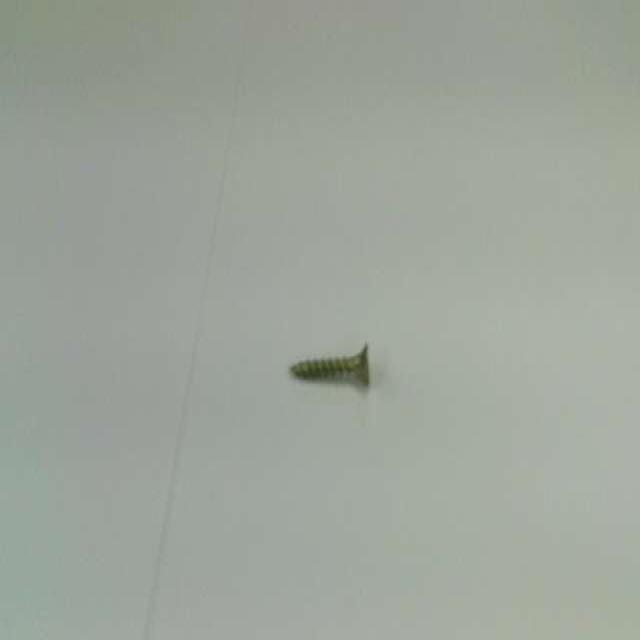Parafuso: (291, 345, 368, 383)
